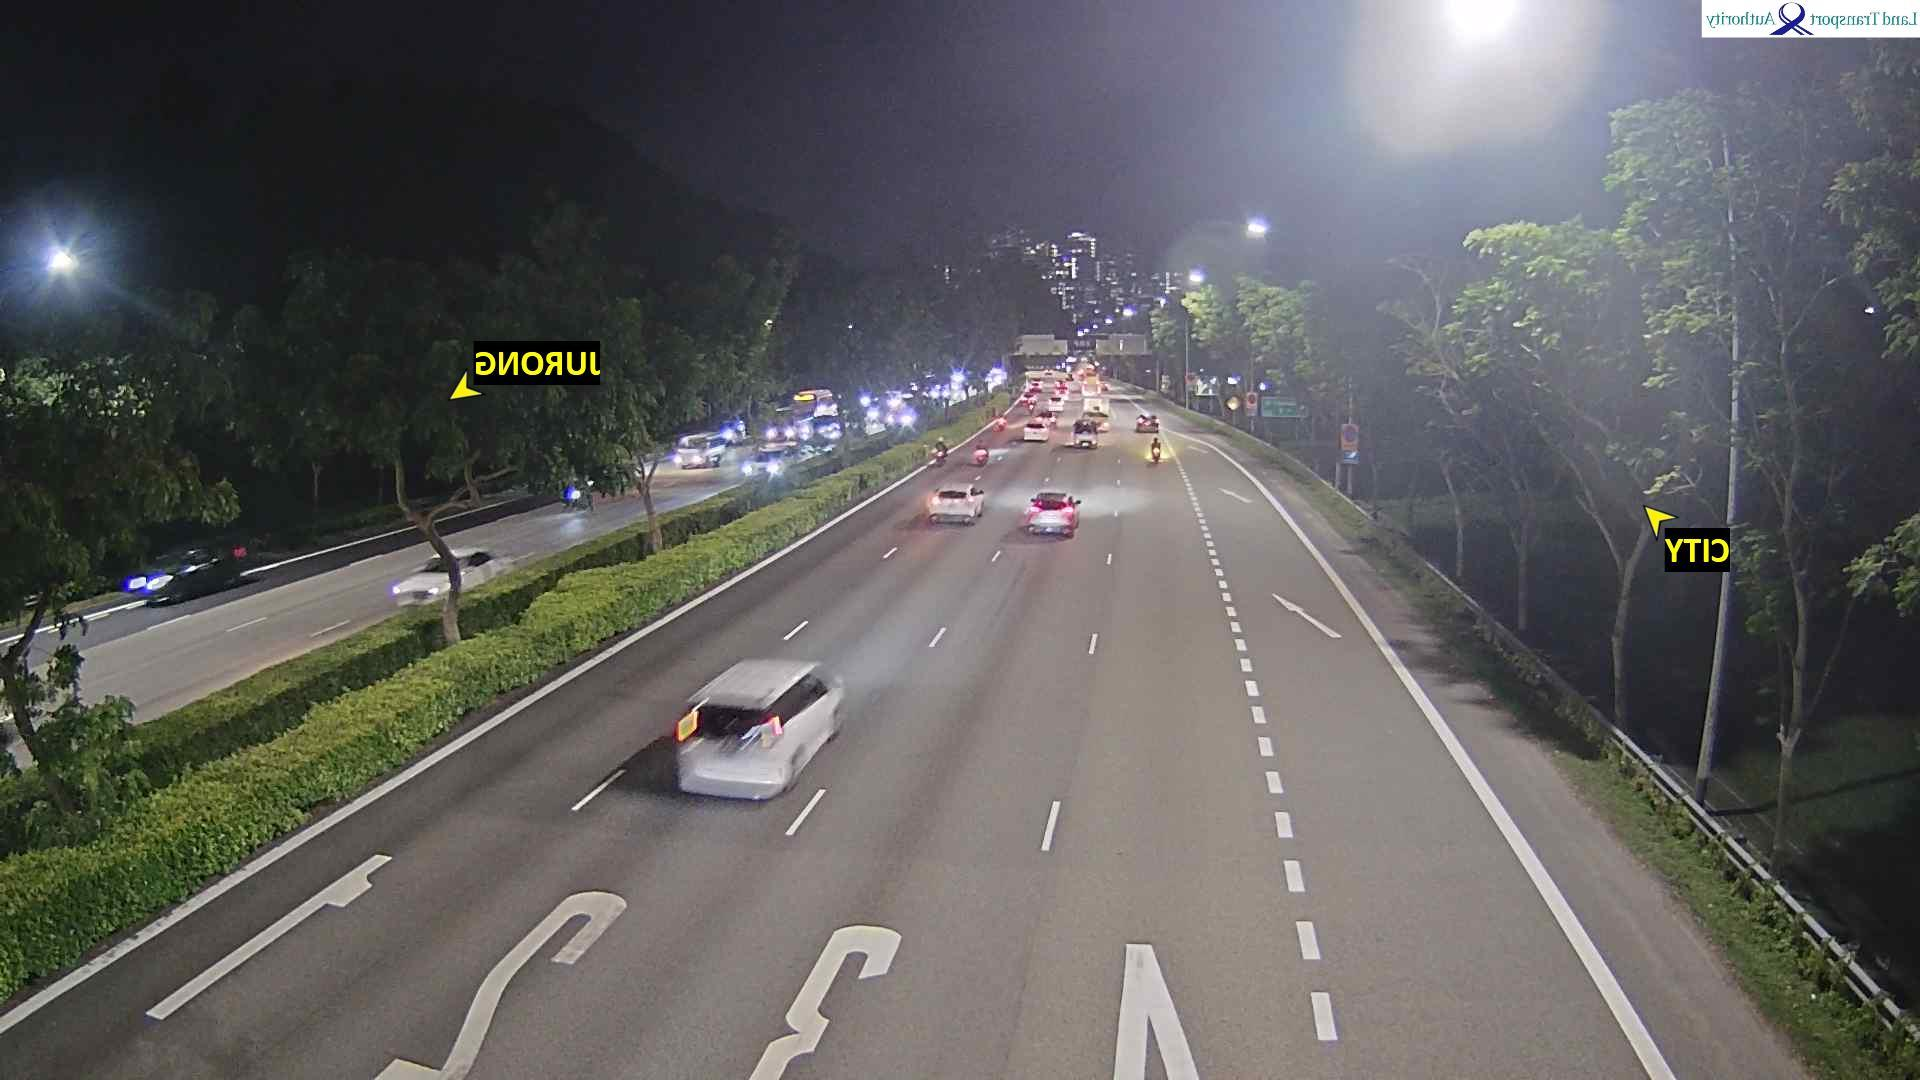incoming: (671, 434, 709, 475), (741, 448, 789, 480)
